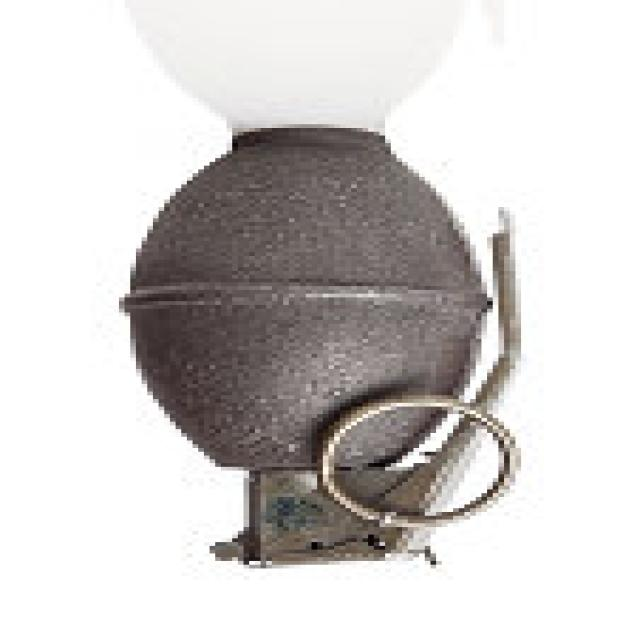grenade: (109, 122, 547, 581)
